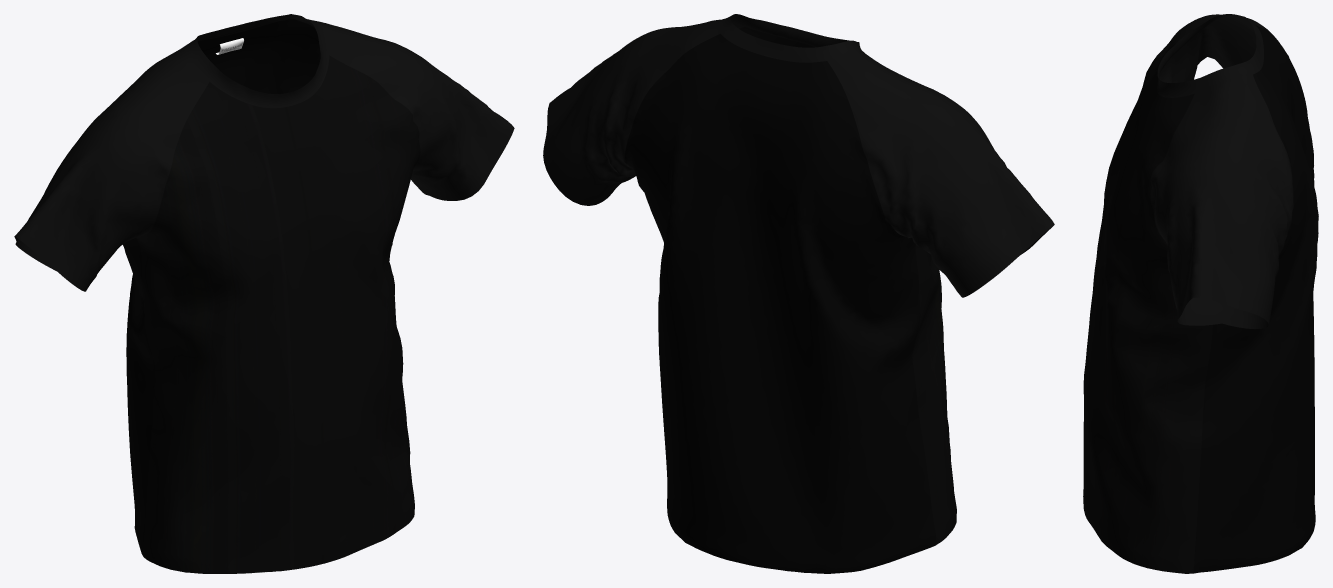
File: tshirt.glb
3 renders of one model, left to right at view 1: azimuth 30°, elevation 25°; view 2: azimuth 150°, elevation 25°; view 3: azimuth 270°, elevation 25°, orthographic. The views are drawn at different scales.
Visible parts, largest first — view 1: Body_Front_1_Node.001_72, Sleeves_3_Node.001_77, Sleeves_2_Node.001_76, Body_Back_Node.001_71, Pattern_233998_Node.001_75; view 2: Body_Back_Node.001_71, Sleeves_3_Node.001_77, Sleeves_2_Node.001_76, Body_Front_1_Node.001_72, Pattern_233998_Node.001_75; view 3: Body_Front_1_Node.001_72, Body_Back_Node.001_71, Sleeves_2_Node.001_76, Sleeves_3_Node.001_77, Pattern_233998_Node.001_75.
Part boxes in pixels (bbox=[...]): Body_Front_1_Node.001_72: bbox=[136, 55, 420, 573]; Sleeves_3_Node.001_77: bbox=[14, 45, 209, 291]; Sleeves_2_Node.001_76: bbox=[294, 18, 514, 200]; Body_Back_Node.001_71: bbox=[122, 19, 320, 556]; Pattern_233998_Node.001_75: bbox=[184, 14, 329, 108]; Body_Back_Node.001_71: bbox=[625, 33, 936, 573]; Sleeves_3_Node.001_77: bbox=[827, 52, 1054, 297]; Sleeves_2_Node.001_76: bbox=[543, 19, 743, 205]; Body_Front_1_Node.001_72: bbox=[739, 26, 956, 544]; Pattern_233998_Node.001_75: bbox=[717, 14, 864, 62]; Body_Front_1_Node.001_72: bbox=[1083, 43, 1212, 573]; Body_Back_Node.001_71: bbox=[1193, 25, 1318, 573]; Sleeves_2_Node.001_76: bbox=[1150, 74, 1293, 328]; Sleeves_3_Node.001_77: bbox=[1153, 14, 1269, 82]; Pattern_233998_Node.001_75: bbox=[1157, 14, 1263, 97].
Size of the model in its own units: 0.6858 by 0.65 by 0.2894.
Materials: 5 (2 with a texture image).
